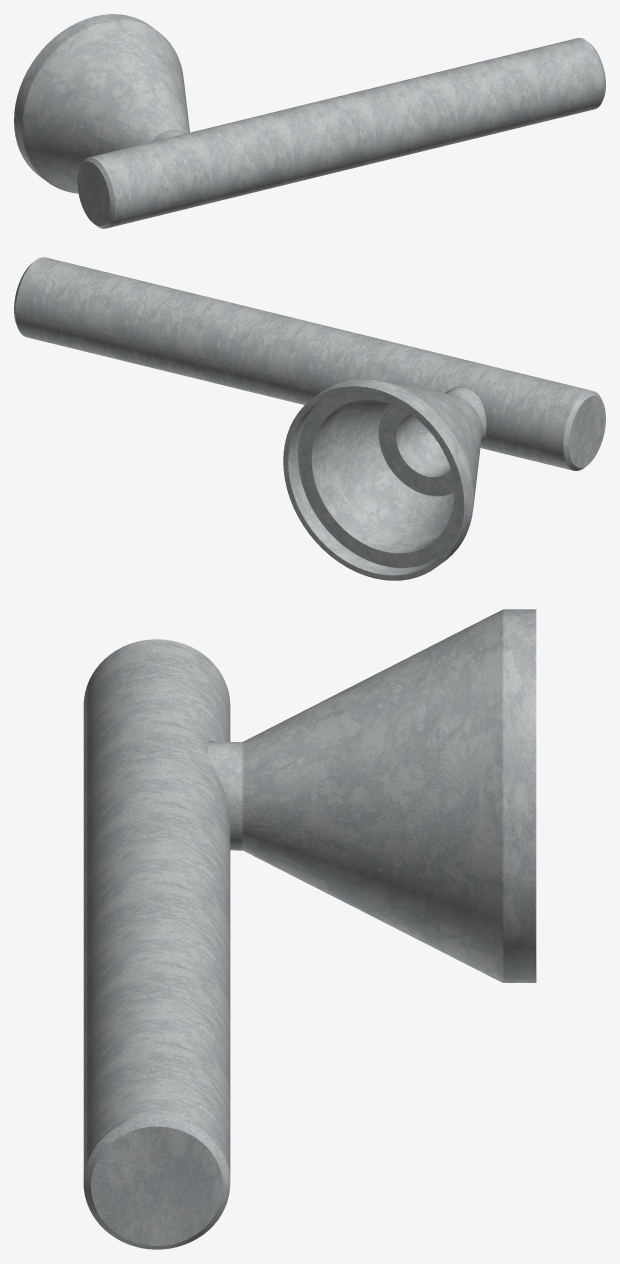
The model's file is hero3D1.glb.
3 renders of one model, top to bottom at view 1: azimuth 30°, elevation 25°; view 2: azimuth 150°, elevation 25°; view 3: azimuth 270°, elevation 25°, orthographic. The views are drawn at different scales.
Parts seen in each view (by area): view 1: man-pencil, man-pencil-rosetta; view 2: man-pencil, man-pencil-rosetta; view 3: man-pencil, man-pencil-rosetta.
Boxes of the visible parts, x1,y1,x2,y2 form: man-pencil: (77, 38, 605, 228); man-pencil-rosetta: (14, 14, 189, 193); man-pencil: (14, 257, 605, 470); man-pencil-rosetta: (283, 379, 486, 580); man-pencil: (83, 639, 230, 1249); man-pencil-rosetta: (207, 609, 536, 982).
Size of what is drawn, in the model's own units: 0.155 by 0.0507 by 0.0613.
1 material, 1 textured.
